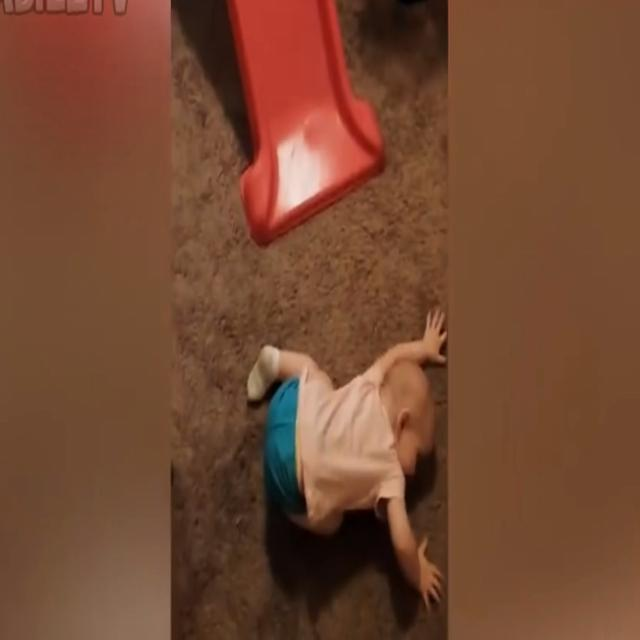child: (247, 301, 450, 612)
